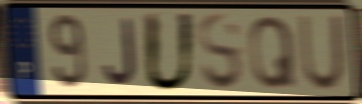9: (47, 12, 88, 92)
J: (102, 16, 139, 88)
Q: (248, 13, 299, 92)
S: (196, 11, 246, 94)
U: (142, 10, 198, 95), (297, 13, 346, 94)
